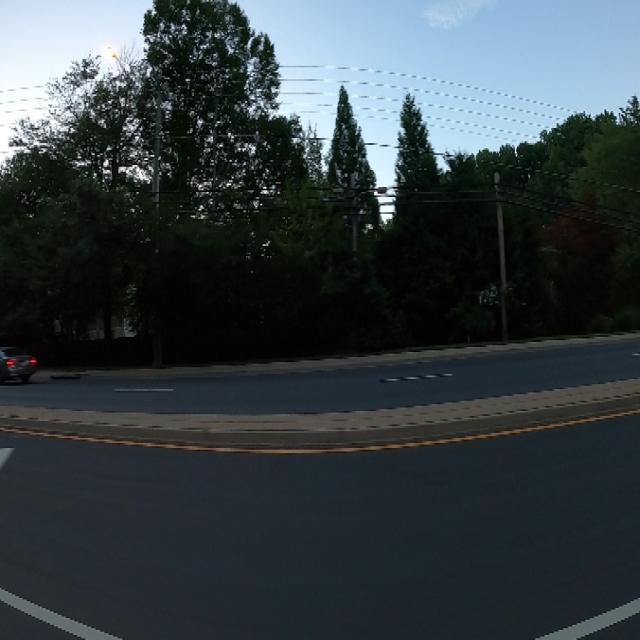Cars: (0, 337, 45, 389)
